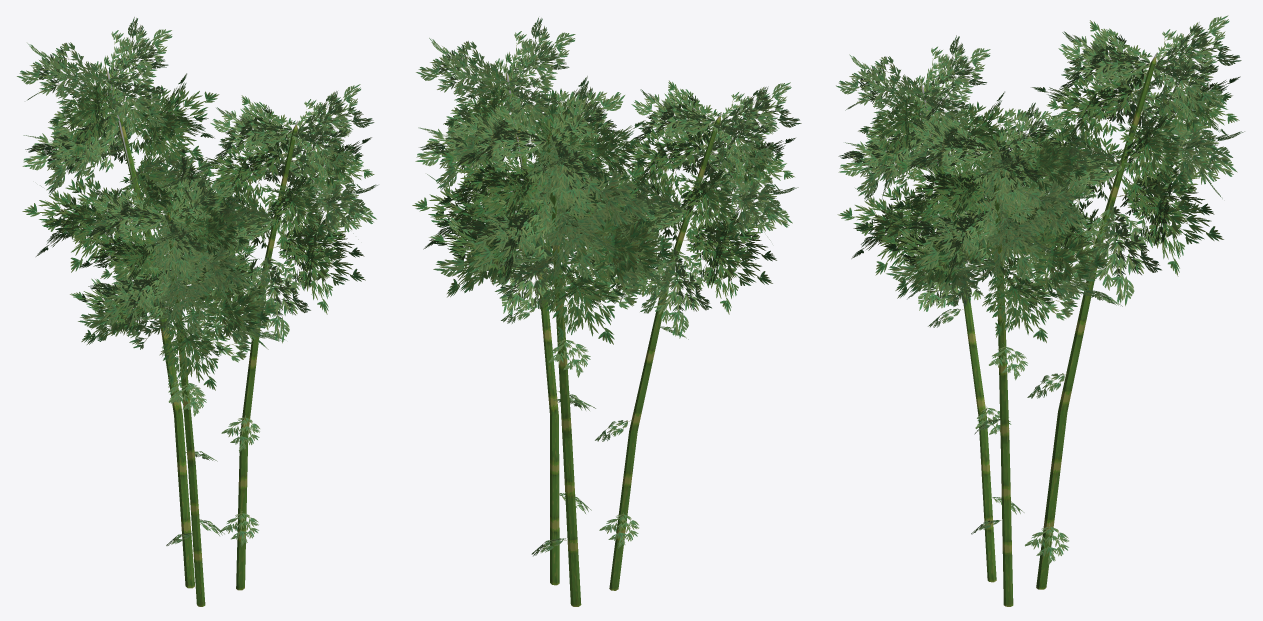
The model's file is m_bamboo04.fbx.
3 views of the same model, side by side, from view 1: azimuth 30°, elevation 25°; view 2: azimuth 150°, elevation 25°; view 3: azimuth 270°, elevation 25° (orthographic). The views are drawn at different scales.
Visible parts, largest first — view 1: mesh_bamboo04; view 2: mesh_bamboo04; view 3: mesh_bamboo04.
Boxes of the visible parts, x1,y1,x2,y2 form: mesh_bamboo04: (17,17,377,606); mesh_bamboo04: (412,17,801,606); mesh_bamboo04: (836,15,1244,606).
Size of the model in its own units: 4.06 by 6.27 by 4.38.
